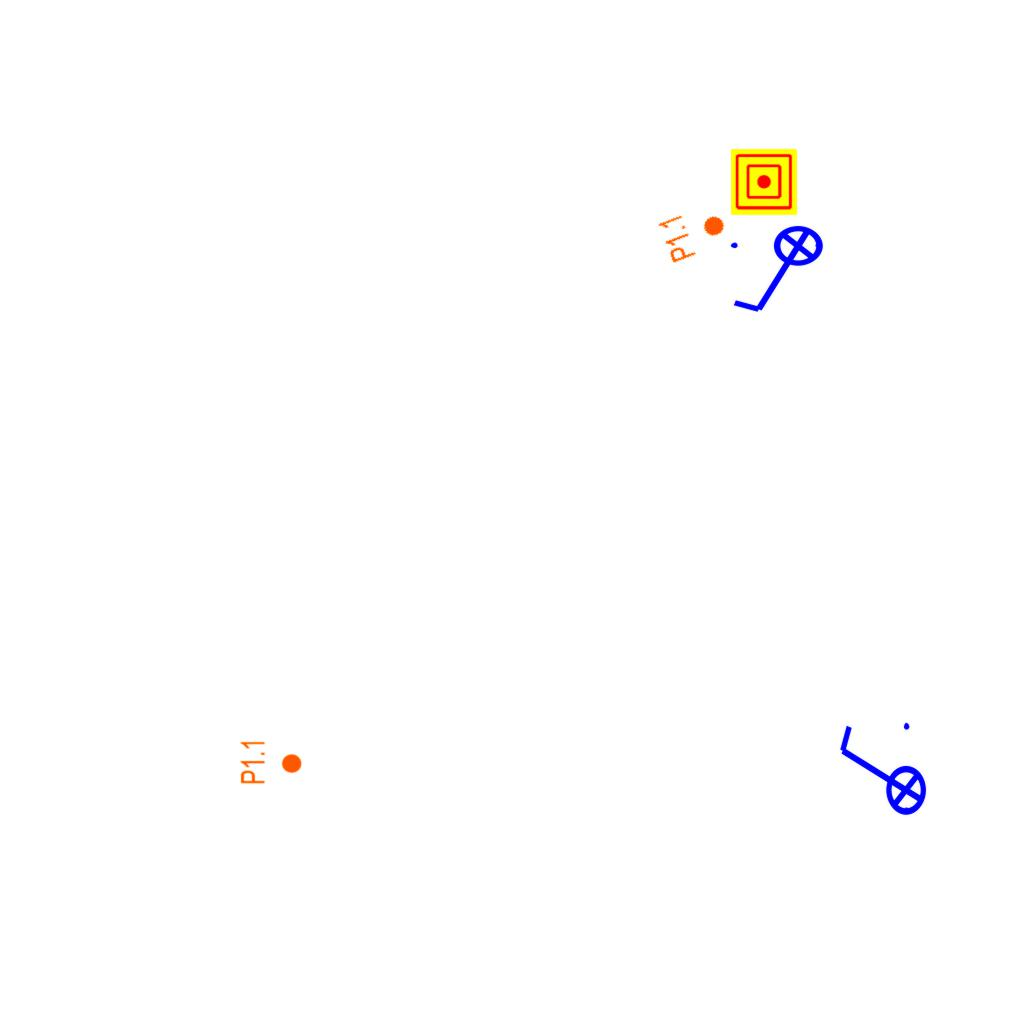Ausschalter_beleuchtet: (725, 224, 837, 320), (832, 717, 928, 829)
Downlight_LED_Einbauleuchten_Flur: (655, 199, 733, 265), (239, 739, 303, 785)
NAM-Nichtautomatischer_Melder: (731, 149, 797, 215)
